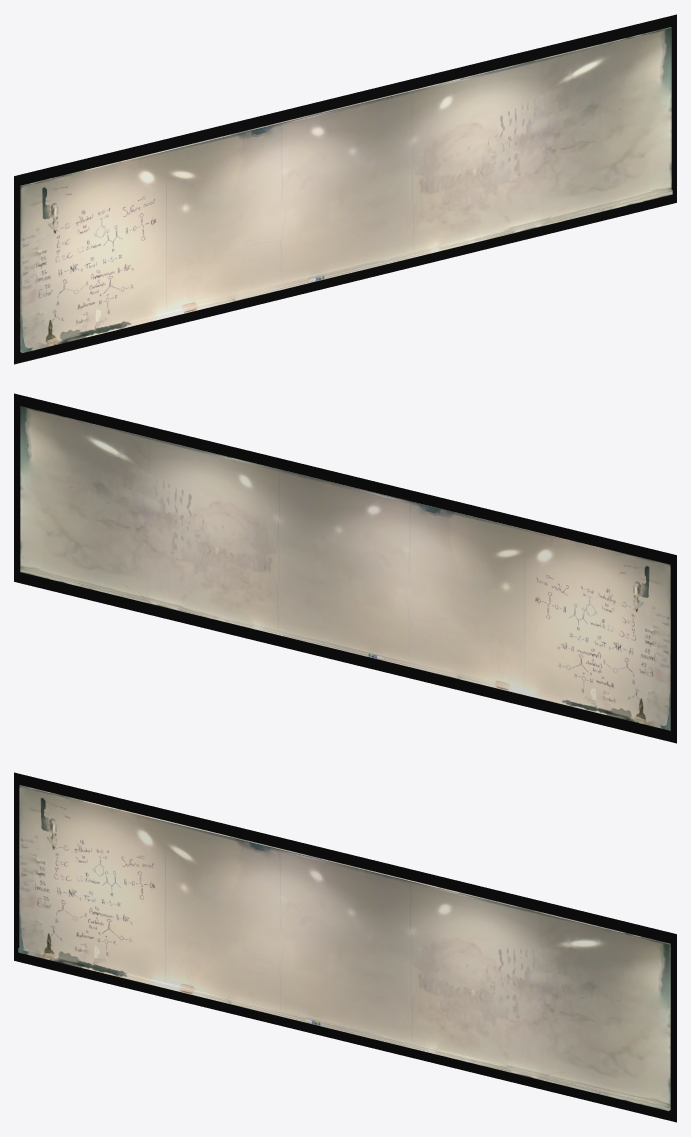
Rendered from whiteboard.glb.
The picture shows the model from 3 angles, top to bottom: view 1: azimuth 30°, elevation 25°; view 2: azimuth 150°, elevation 25°; view 3: azimuth 330°, elevation 25°; orthographic projection.
Visible parts, largest first — view 1: board, shadow, frame; view 2: board, shadow, frame; view 3: board, shadow, frame.
Boxes of the visible parts, x1,y1,x2,y2 form: board: [22, 30, 669, 347]; shadow: [14, 14, 676, 364]; frame: [20, 27, 672, 353]; board: [21, 408, 669, 725]; shadow: [14, 393, 676, 743]; frame: [20, 406, 670, 730]; board: [21, 788, 668, 1105]; shadow: [14, 772, 676, 1122]; frame: [18, 785, 670, 1111].
Bounding box in the file's own units: 6.2 × 1.68 × 0.033.
Materials: 2 (2 with a texture image).
